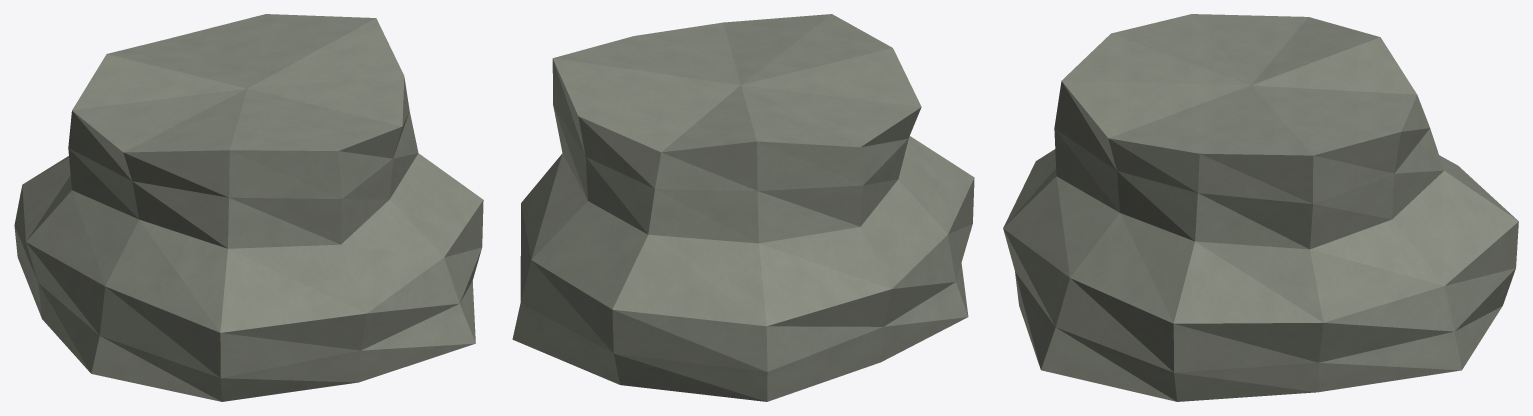
3 views of the same model, side by side, from view 1: azimuth 30°, elevation 25°; view 2: azimuth 150°, elevation 25°; view 3: azimuth 270°, elevation 25° (orthographic). The views are drawn at different scales.
Visible parts, largest first — view 1: 破岩形状与干湿色尺寸族; view 2: 破岩形状与干湿色尺寸族; view 3: 破岩形状与干湿色尺寸族.
Boxes of the visible parts, bbox=[...] form: 破岩形状与干湿色尺寸族: bbox=[14, 14, 483, 401]; 破岩形状与干湿色尺寸族: bbox=[512, 14, 974, 401]; 破岩形状与干湿色尺寸族: bbox=[1003, 14, 1518, 401].
Bounding box in the file's own units: 3.37 × 2.03 × 3.71.
Materials: 2 (2 with a texture image).
